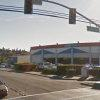Traffic light: (61, 6, 83, 26)
